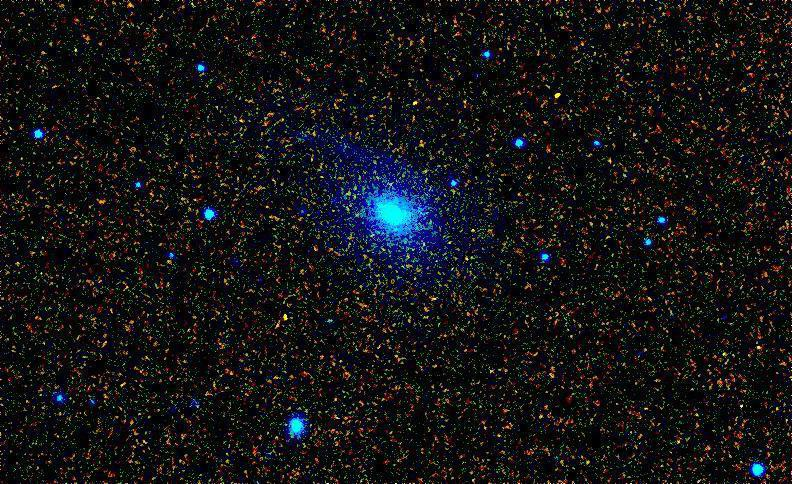star: (543, 78, 573, 108)
